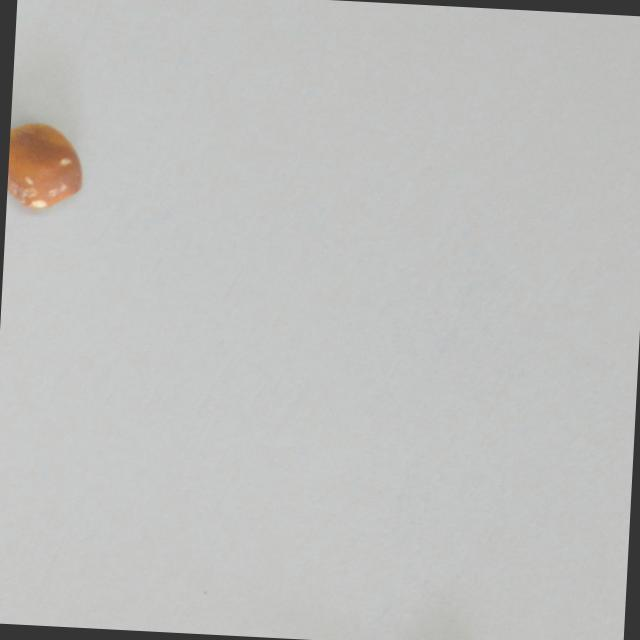dañado: (5, 118, 88, 216)
